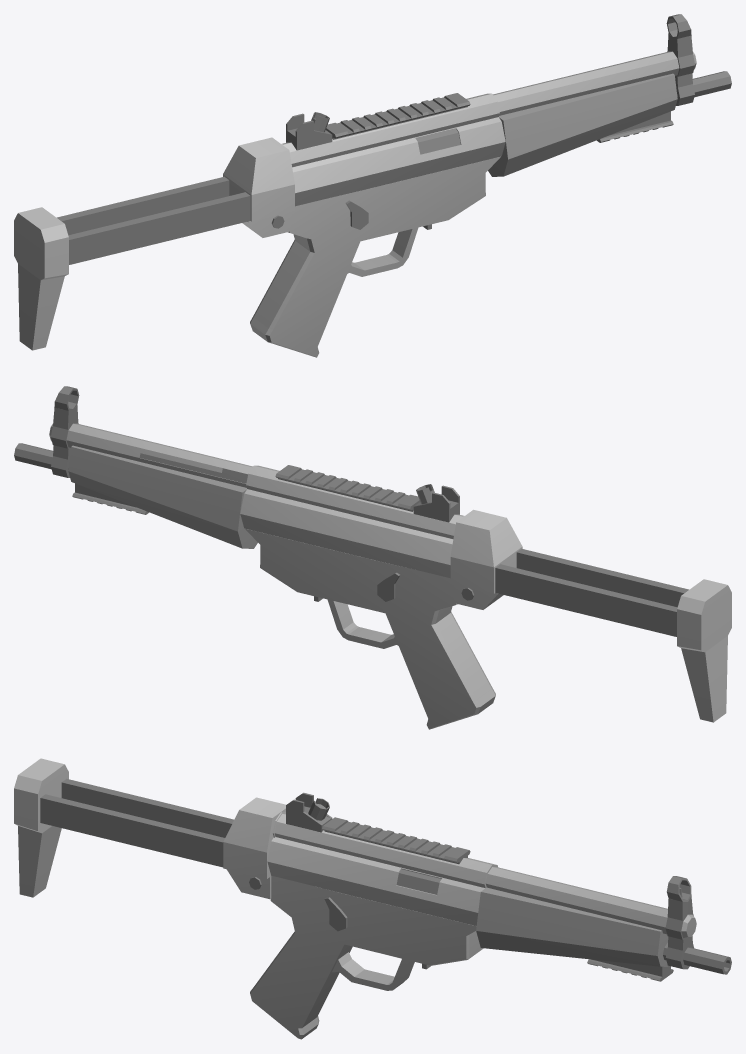
The model's file is SMG2_04.fbx.
3 views of the same model, one above another, from view 1: azimuth 30°, elevation 25°; view 2: azimuth 150°, elevation 25°; view 3: azimuth 330°, elevation 25° (orthographic).
Visible parts, largest first — view 1: SMG2_04; view 2: SMG2_04; view 3: SMG2_04.
Boxes of the visible parts, left/top/right/bottom form: SMG2_04: left=14, top=14, right=731, bottom=357; SMG2_04: left=14, top=386, right=731, bottom=729; SMG2_04: left=14, top=758, right=731, bottom=1039.
Size of the model in its own units: 0.7164 by 0.2409 by 0.0566.
